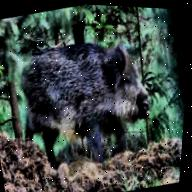boar: (2, 15, 174, 192)
